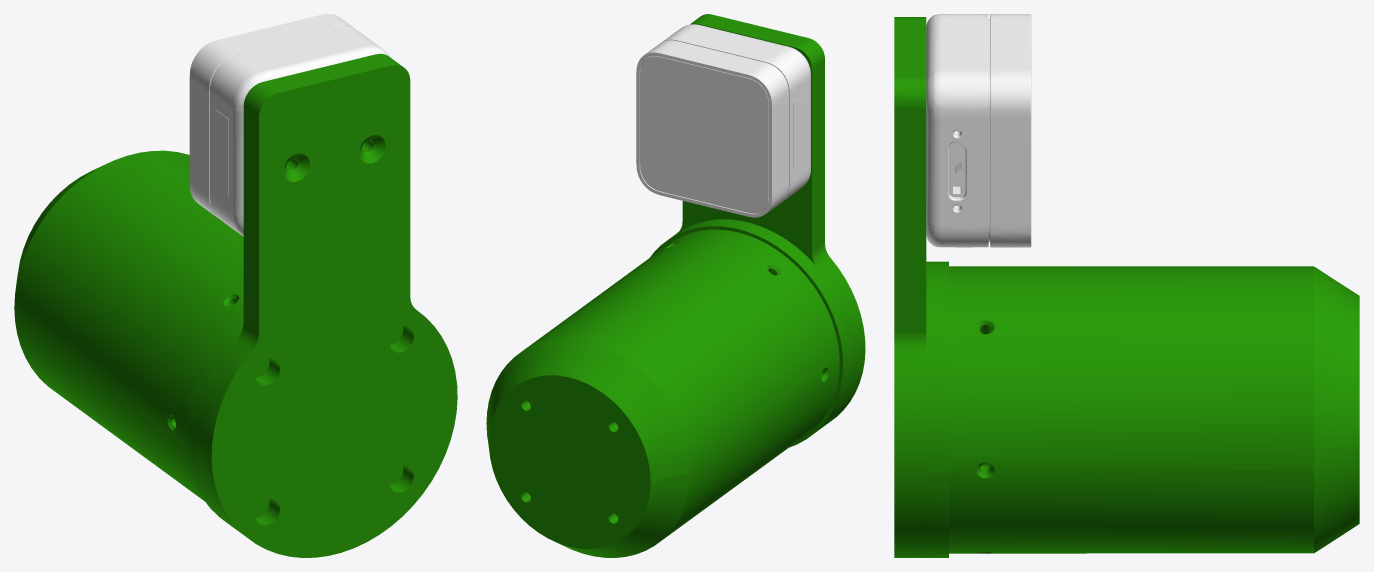
File: prehand_cam.dae
The picture shows the model from 3 angles, left to right: view 1: azimuth 30°, elevation 25°; view 2: azimuth 150°, elevation 25°; view 3: azimuth 270°, elevation 25°; orthographic projection. The views are drawn at different scales.
Parts seen in each view (by area): view 1: empty_4, empty_2, empty_5, empty_3; view 2: empty_2, empty_5, empty_4, empty_3; view 3: empty_2, empty_5, empty_4, empty_3.
Part boxes in pixels (x1,y1,x2,y2): empty_4: (196, 53, 457, 557); empty_2: (14, 150, 243, 500); empty_5: (189, 14, 390, 236); empty_3: (185, 313, 403, 525); empty_2: (486, 229, 839, 557); empty_5: (636, 24, 810, 217); empty_4: (677, 14, 865, 425); empty_3: (650, 219, 852, 447); empty_2: (949, 266, 1359, 553); empty_5: (926, 14, 1031, 247); empty_4: (894, 17, 926, 557); empty_3: (926, 261, 990, 557).
Size of the model in its own units: 65 by 121 by 102.
